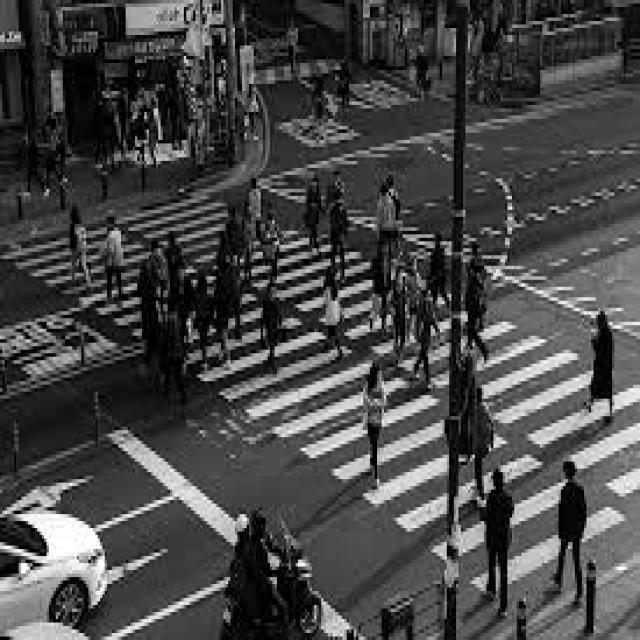Passenger Car: (2, 493, 112, 630)
Pedestrians: (482, 465, 524, 619), (547, 458, 589, 602), (582, 308, 621, 423), (358, 356, 389, 489), (63, 200, 93, 290), (100, 210, 126, 304)
